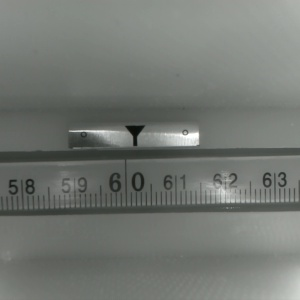0: (130, 172, 144, 192)
1: (179, 174, 185, 189)
2: (227, 172, 237, 187)
3: (277, 172, 286, 187)
5: (7, 179, 17, 195), (61, 178, 71, 194)
6: (108, 171, 122, 192), (162, 174, 172, 190), (261, 172, 271, 187), (212, 173, 222, 187)
8: (24, 178, 35, 194)
9: (77, 177, 87, 193)
finger: (122, 125, 146, 146)
